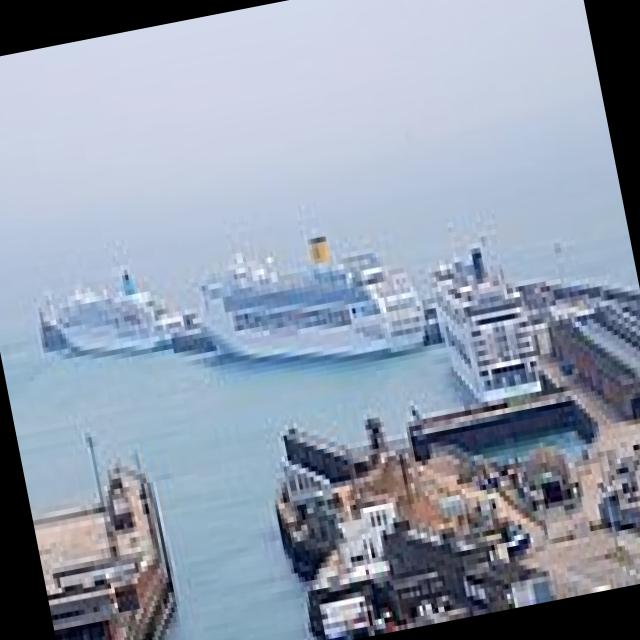boat: (188, 242, 430, 392), (424, 235, 546, 410), (23, 250, 191, 364)
